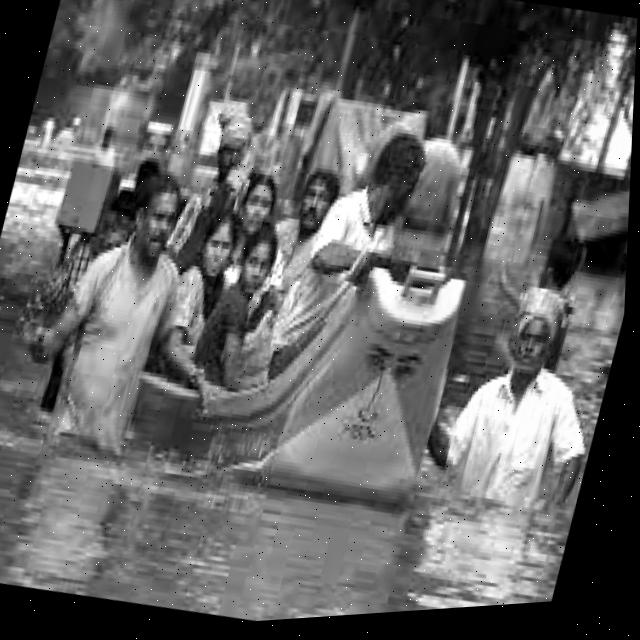civilian: (19, 149, 267, 519), (425, 284, 623, 570), (257, 113, 441, 420), (202, 225, 317, 410), (242, 166, 340, 367), (155, 210, 254, 396), (165, 121, 257, 283), (229, 165, 287, 238)
